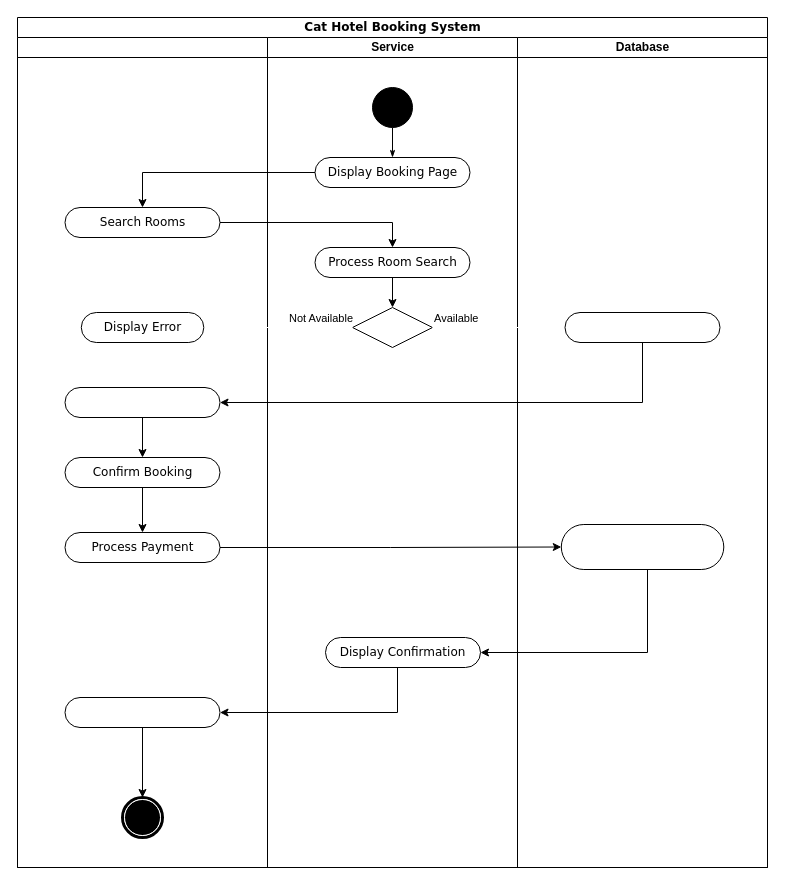
The diagram is 785 pixels wide and 885 high, and some of its shapes have lost their labels. Each missing label, with the box of its shape:
Fetch Room Details: (564, 312, 720, 342)
Member: (16, 36, 268, 868)
Receive Confirmation: (64, 696, 220, 728)
Save Booking Data (Status: Pending Proof): (560, 524, 724, 570)
Select Room: (64, 386, 220, 418)
